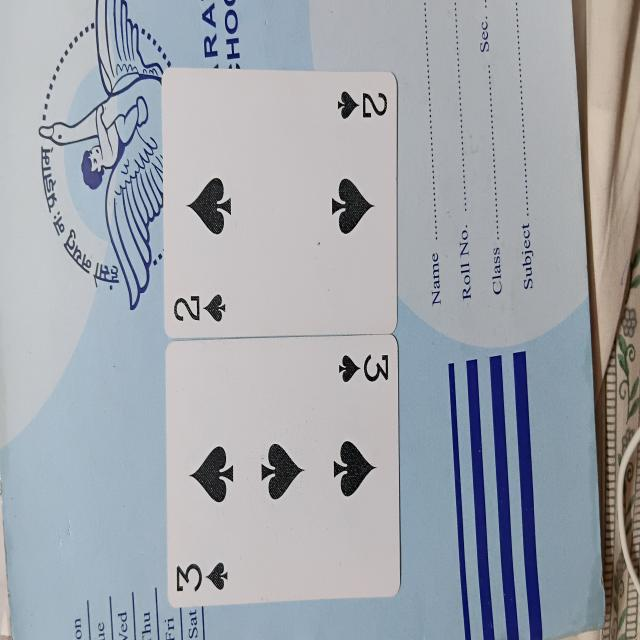2S: (160, 73, 401, 333)
3S: (169, 342, 395, 595)
